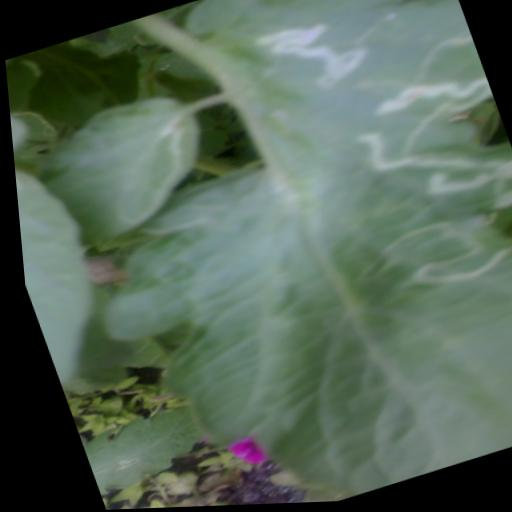Leaf_Miner: (2, 0, 512, 512)
